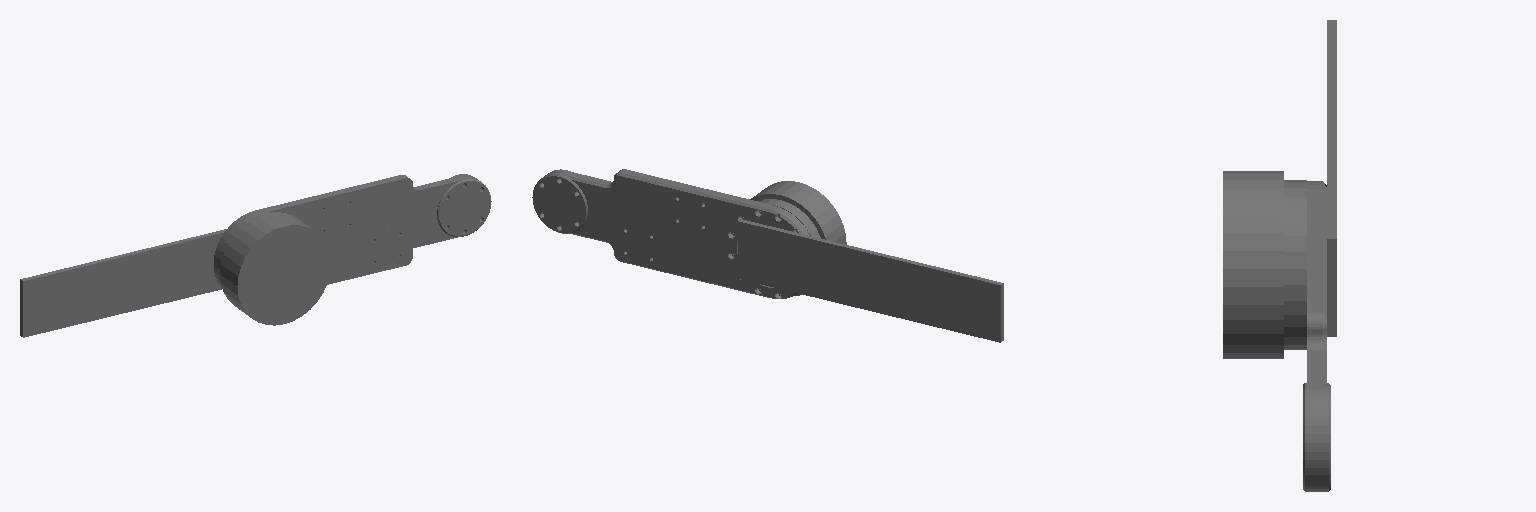
robot.urdf — a1_motor:
<?xml version="1.0" ?>

<robot name="a1_motor" xmlns:xacro="http://ros.org/wiki/xacro">

	<link name="world"/>
	<joint name="world_joint" type="fixed">
		<parent link="world"/>
		<child link="base_link"/>
		<origin rpy="0.0 0.0 0.0" xyz="0 0 0.5"/>
	</joint>
	<link name="base_link">
		<visual>
		<origin rpy="0 0 0" xyz="0 0 0"/>
		<geometry>
		<mesh filename="meshes/a1_motor.stl"/>
		</geometry>
  <material name="black">
    <color rgba="0.1 0.1 0.1 1.0"/>
  </material>
		</visual>
		<collision>
		<origin rpy="0 0 0" xyz="0 0.021 0"/>
		<geometry>
		<cylinder length="0.042" radius="0.046"/>
		</geometry>
		</collision>
		<inertial>
		<origin rpy="0 0 0" xyz="0 0 0"/>
		<mass value="0.705"/>
		  <inertia  ixx="0.0006111993117592239" ixy="0" ixz="0" iyy="0.000993951145190498" iyz="0" izz="0.0006111993117592239" />
		</inertial>
	</link>	
	<joint name="joint1" type="revolute">
		<parent link="base_link"/>
		<child link="link1"/>
		<origin rpy="0.0 0.0 0.0" xyz="0 0.03 0"/>
		<axis xyz="0 1 0"/>
                <limit effort="6" lower="-3.05432619099" upper="3.05432619099" velocity="1"/>		
	</joint>
	<link name="link1">
		<visual>
		<origin rpy="0 0 0" xyz="0 0 0"/>
		<geometry>
		<mesh filename="meshes/link1.stl"/>
		</geometry>
  <material name="metal_gray">
    <color rgba="0.5 0.5 0.5 1.0"/>
  </material>
		</visual>
		<collision>
		<origin rpy="0 0 0" xyz="0 0 0"/>
		<geometry>
		<mesh filename="meshes/link1.stl"/>
		</geometry>
		</collision>
		<inertial>
		<origin rpy="0 0 0" xyz="-0.2 0 0"/>
		<mass value="0.705"/>
		  <inertia  ixx="0.0006111993117592239" ixy="0" ixz="0" iyy="0.000993951145190498" iyz="0" izz="0.0006111993117592239" />
		</inertial>
	</link>	
	<joint name="joint2" type="revolute">
		<parent link="link1"/>
		<child link="link2"/>
		<origin rpy="0.0 0.0 0.0" xyz="-0.2 0.0075 0"/>
		<axis xyz="0 1 0"/>
                <limit effort="6" lower="-3.05432619099" upper="3.05432619099" velocity="1"/>			
	</joint>
	<link name="link2">
		<visual>
		<origin rpy="0 0 0" xyz="0 0 0"/>
		<geometry>
		<mesh filename="meshes/link2.stl"/>
		</geometry>
  <material name="metal_gray">
    <color rgba="0.5 0.5 0.5 1.0"/>
  </material>
		</visual>
		<collision>
		<origin rpy="0 0 0" xyz="0 0 0"/>
		<geometry>
		<mesh filename="meshes/link2.stl"/>
		</geometry>
		</collision>
		<inertial>
		<origin rpy="0 0 0" xyz="0 0 0"/>
		<mass value="0.1"/>
<inertia  ixx="2.3616666065715256e-05" ixy="0" ixz="0" iyy="0.0005568166289165623" iyz="0" izz="0.0005336166294212769" />
		</inertial>
	</link>
</robot>

--- What the picture shows (computed from the rendered views, not written in the file) ---
Views: 3 orthographic renders of the robot side by side, from view 1: azimuth 30°, elevation 25°; view 2: azimuth 150°, elevation 25°; view 3: azimuth 270°, elevation 25°.
Model a1_motor with 4 links and 3 joints (2 revolute, 1 fixed), rooted at world, posed every joint at zero.
Links seen in each view (by area): view 1: link1, link2; view 2: link1, link2; view 3: link1, link2.
Boxes of the visible links, x1,y1,x2,y2 form: link1: [214, 174, 491, 325]; link2: [20, 229, 226, 337]; link1: [532, 169, 846, 298]; link2: [738, 219, 1003, 342]; link1: [1223, 171, 1330, 491]; link2: [1327, 20, 1336, 336].
Size in the robot's own frame: 0.453 by 0.0561 by 0.092 metres.
Meshes: 3 distinct files referenced, 2 mesh visuals loaded (2 binary STL); not drawn: 1 (reference not matched to a file when rendering).